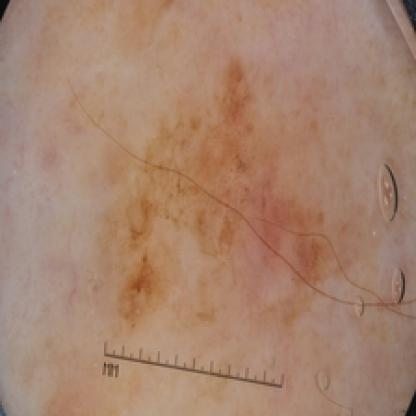malignant: (95, 39, 338, 319)
